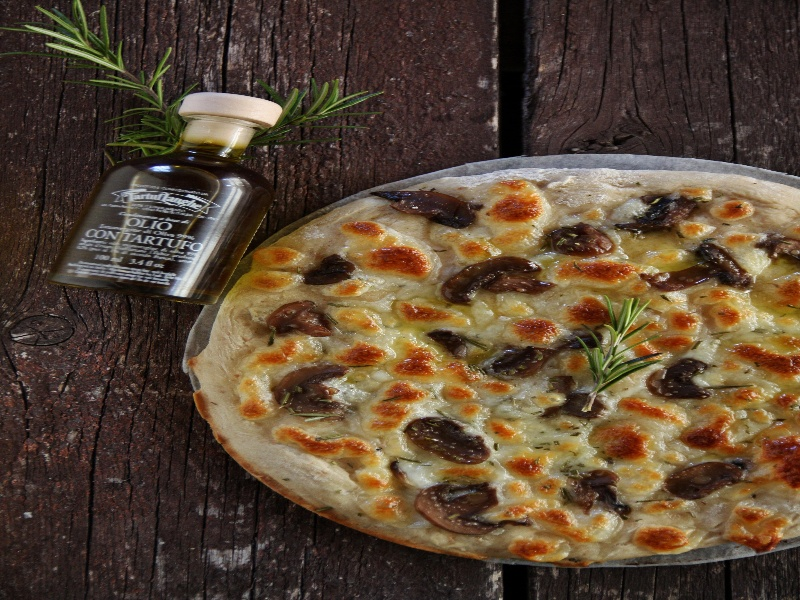champignon: (441, 248, 551, 310), (647, 242, 763, 299), (414, 475, 505, 545), (401, 413, 496, 470), (273, 362, 352, 429), (388, 182, 479, 234), (262, 293, 343, 349), (665, 459, 760, 506)
